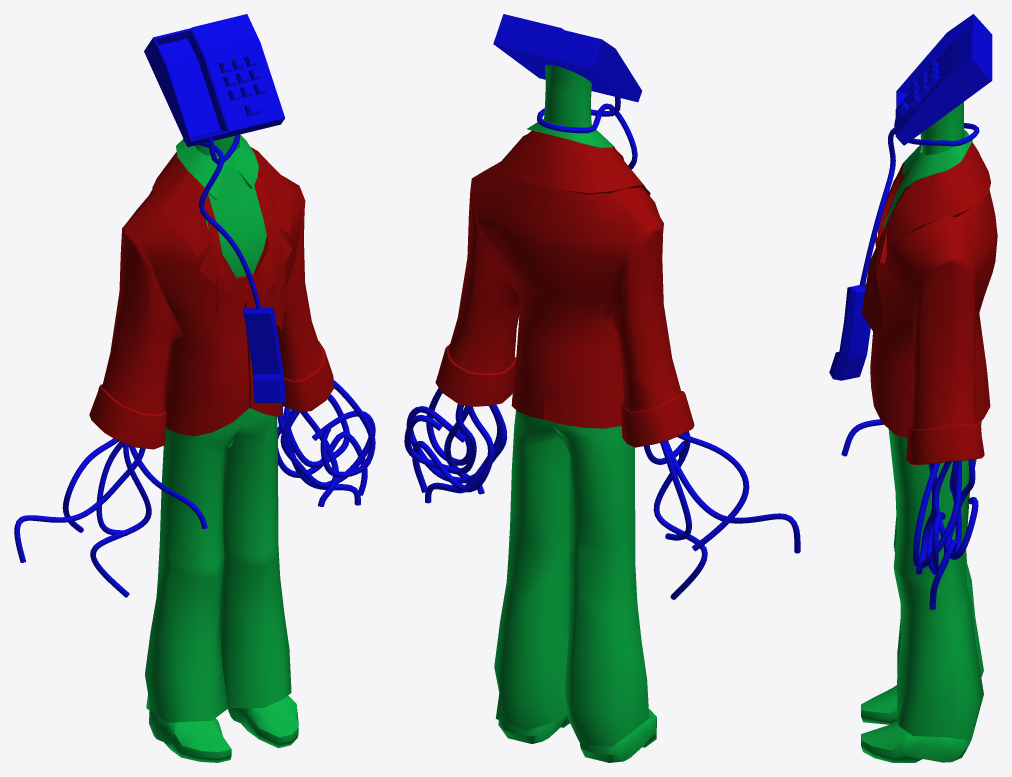
The model's file is monster uv exp..fbx.
The picture shows the model from 3 angles, left to right: view 1: azimuth 30°, elevation 25°; view 2: azimuth 150°, elevation 25°; view 3: azimuth 270°, elevation 25°; orthographic projection. The views are drawn at different scales.
Parts seen in each view (by area): view 1: pants_jacket, polySurface43, electrics; view 2: polySurface43, pants_jacket, electrics; view 3: polySurface43, pants_jacket, electrics.
Boxes of the visible parts, left/top/right/bottom form: pants_jacket: left=145, top=135, right=298, bottom=762; polySurface43: left=89, top=147, right=334, bottom=449; electrics: left=14, top=14, right=375, bottom=597; polySurface43: left=435, top=130, right=694, bottom=447; pants_jacket: left=494, top=64, right=656, bottom=762; electrics: left=404, top=14, right=800, bottom=599; polySurface43: left=862, top=142, right=997, bottom=464; pants_jacket: left=861, top=102, right=983, bottom=762; electrics: left=829, top=14, right=992, bottom=609.
Size of the model in its own units: 3.58 by 6.44 by 1.41.
